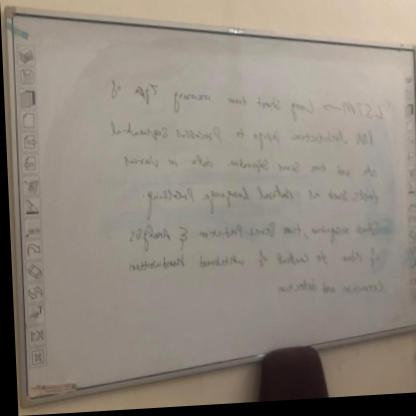Handwritten text: (94, 72, 386, 146), (103, 115, 379, 161), (120, 211, 384, 255), (114, 151, 382, 193), (127, 176, 381, 220), (122, 251, 379, 281), (264, 281, 387, 314)
Whiteboard: (11, 8, 416, 402)
